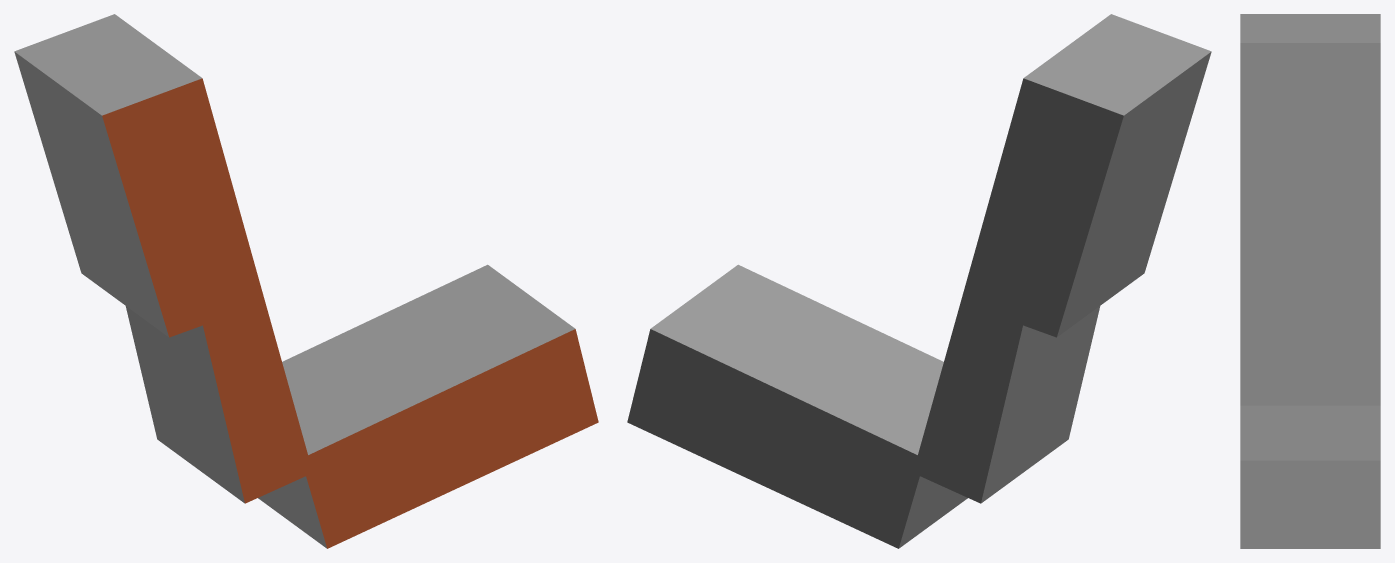
The model's file is construction_2758_assumed_A_Casa_h6m.obj.
The picture shows the model from 3 angles, left to right: view 1: azimuth 30°, elevation 25°; view 2: azimuth 150°, elevation 25°; view 3: azimuth 270°, elevation 25°; orthographic projection. The views are drawn at different scales.
Parts seen in each view (by area): view 1: construction_2758_assumed_A_Casa; view 2: construction_2758_assumed_A_Casa; view 3: construction_2758_assumed_A_Casa.
Part boxes in pixels (left/top/right/bottom): construction_2758_assumed_A_Casa: left=14, top=14, right=598, bottom=548; construction_2758_assumed_A_Casa: left=627, top=14, right=1211, bottom=548; construction_2758_assumed_A_Casa: left=1240, top=14, right=1380, bottom=548.
Bounding box in the file's own units: 19.6 × 18.89 × 6.
